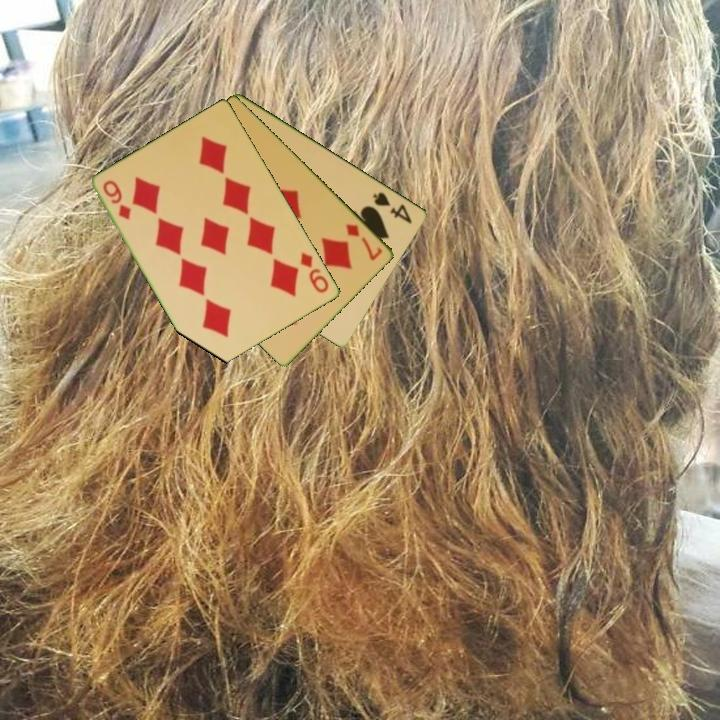4s: (369, 188, 415, 227)
7d: (343, 220, 386, 264)
9d: (297, 248, 332, 296), (99, 177, 134, 223)
